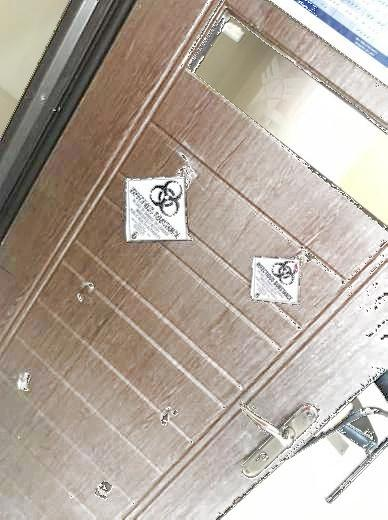infectious-substance: (126, 176, 189, 241), (250, 256, 302, 304)
